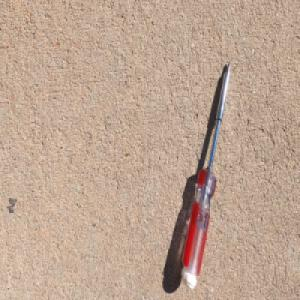Screwdriver: (179, 58, 232, 290)
